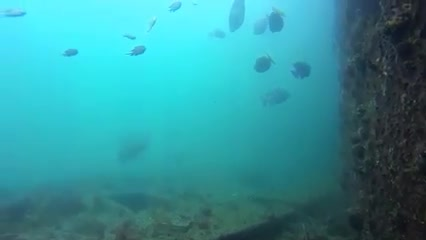smallfish: (290, 57, 314, 81)
